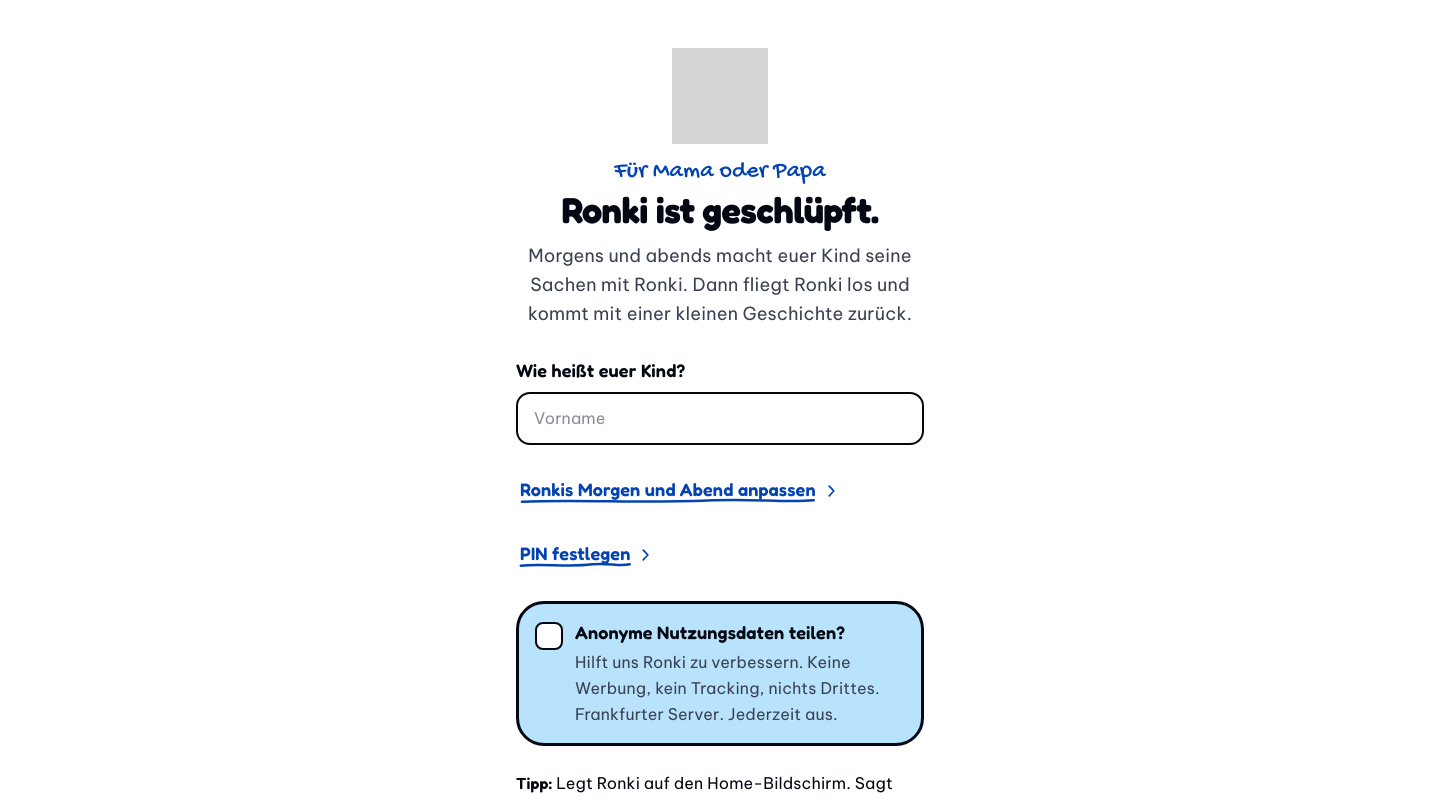
Test: CombinedParentSetup (parent step after the hatch) › shows the new top lines and the tip, and keeps the pill off until a name
Expected: the heading "Ronki ist geschlüpft." is shown, [562,188,878,231]
Expected: the text "Dann fliegt Ronki los und kommt mit einer kleinen Geschichte zurück." is shown, [528,244,912,325]
Step 1. Type "Mia" into the field labelled "Wie heißt euer Kind?" → [720, 419], box [516,392,924,445]
(page scrolled)
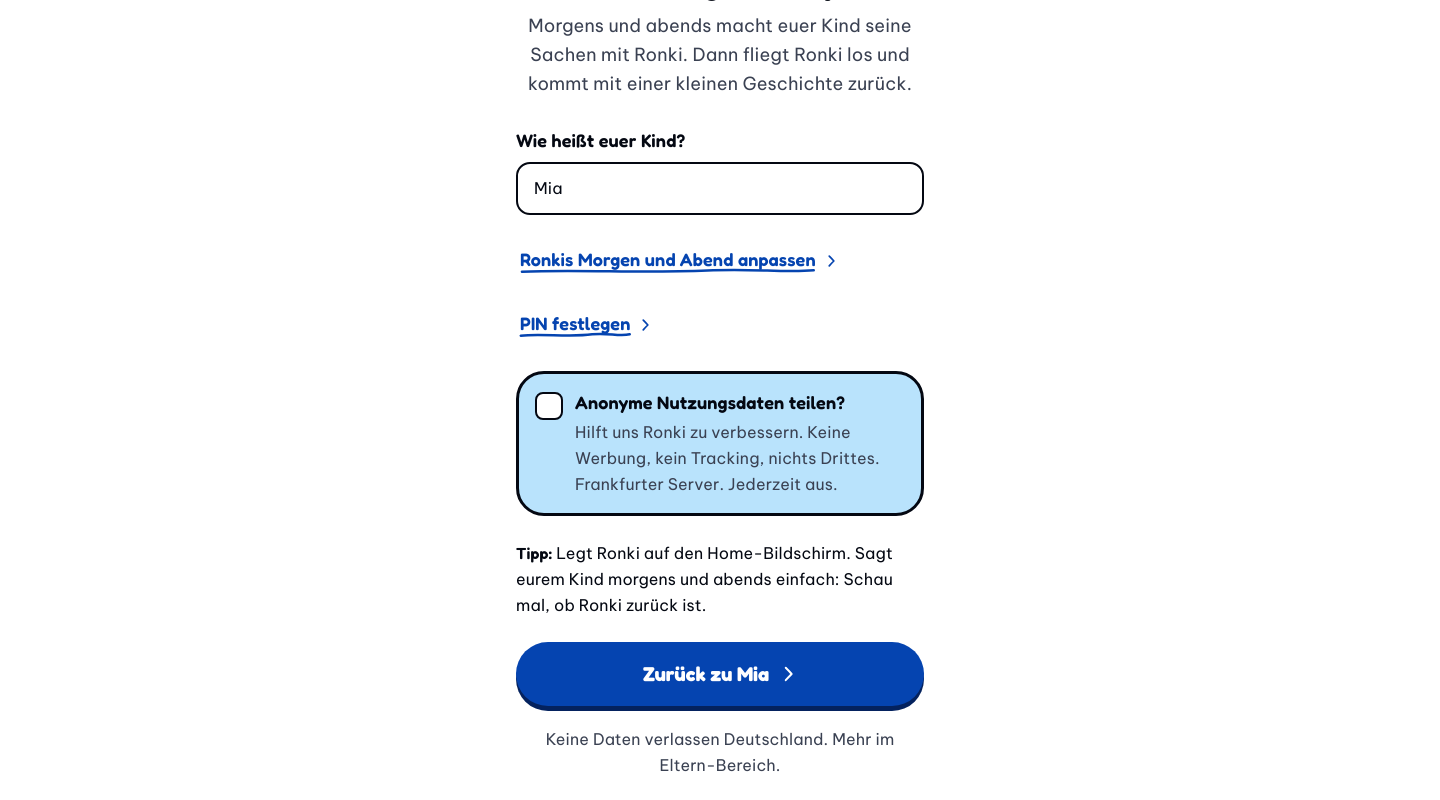
Result: the button "Zurück zum Kind" is enabled at [516,642,924,706]
